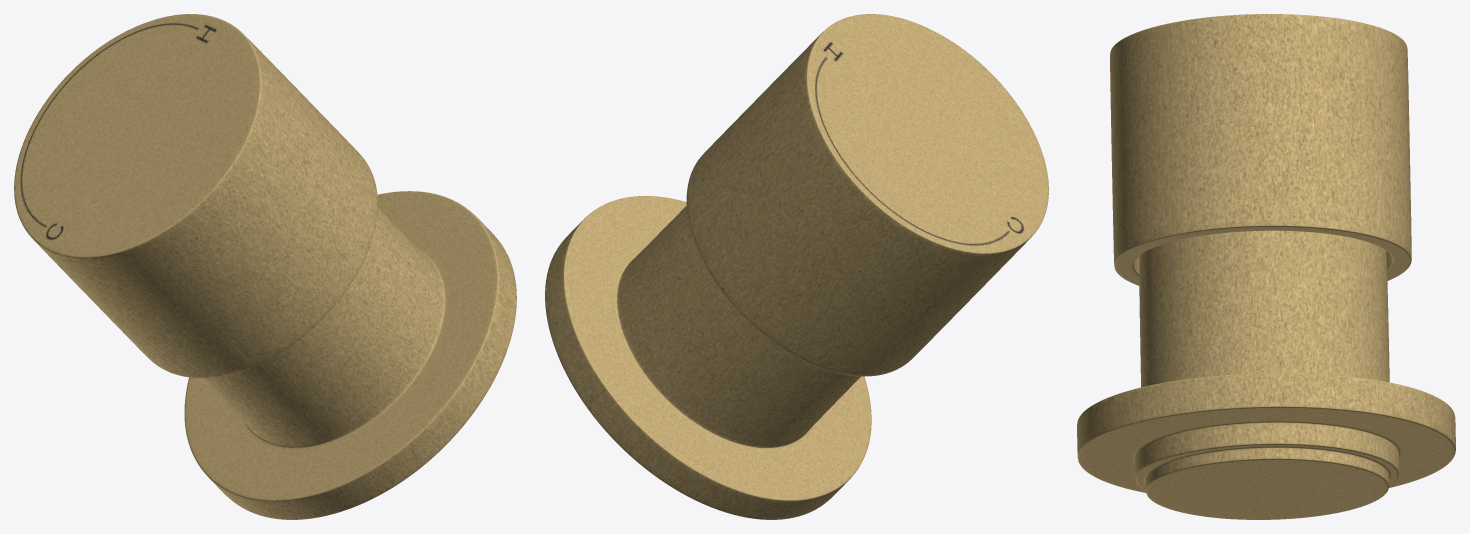
File: Cioso progressive wall mixer bb.glb
3 renders of one model, left to right at view 1: azimuth 30°, elevation 25°; view 2: azimuth 150°, elevation 25°; view 3: azimuth 270°, elevation 25°, orthographic.
Visible parts, largest first — view 1: Cylinder.001; view 2: Cylinder.001; view 3: Cylinder.001.
Part boxes in pixels (x1,y1,x2,y2): Cylinder.001: (14, 14, 516, 519); Cylinder.001: (545, 14, 1048, 519); Cylinder.001: (1077, 14, 1455, 519).
Bounding box in the file's own units: 0.0839 × 0.0856 × 0.0605.
1 material, 1 textured.
